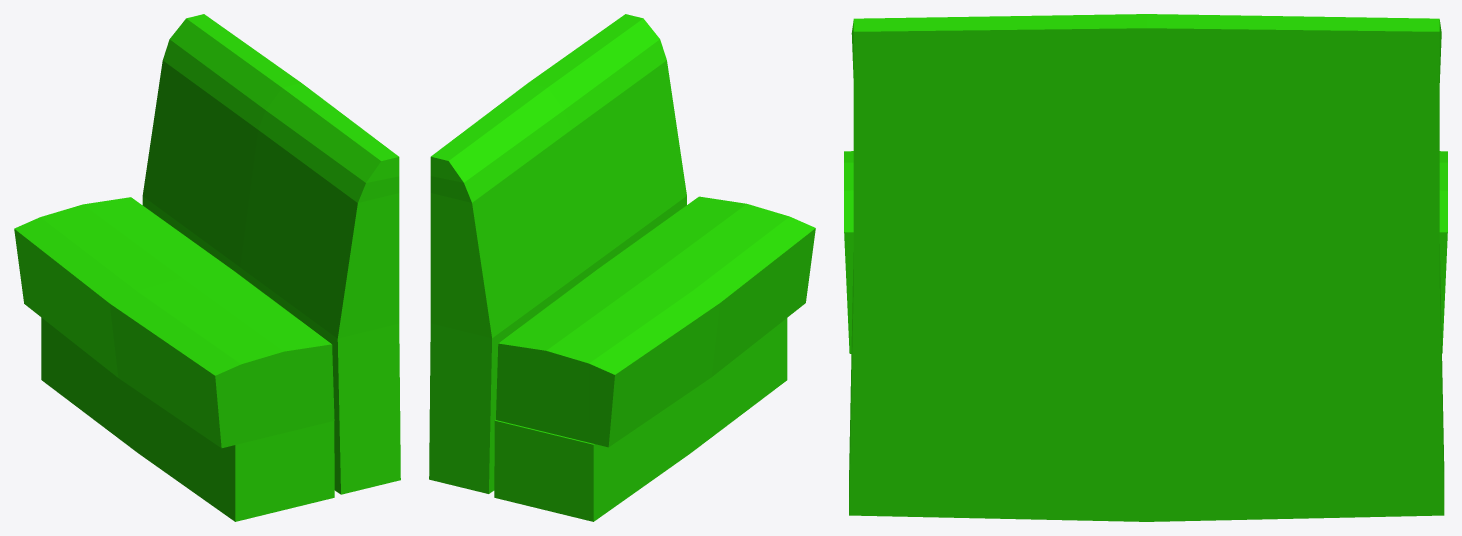
The model's file is Restaurant_Sofa_01_Lod01.fbx.
3 renders of one model, left to right at view 1: azimuth 30°, elevation 25°; view 2: azimuth 150°, elevation 25°; view 3: azimuth 270°, elevation 25°, orthographic. The views are drawn at different scales.
Visible parts, largest first — view 1: Restaurant_Sofa_01_Lod01; view 2: Restaurant_Sofa_01_Lod01; view 3: Restaurant_Sofa_01_Lod01.
Boxes of the visible parts, box(x1,y1,x2,y2) form: Restaurant_Sofa_01_Lod01: box(14, 14, 400, 521); Restaurant_Sofa_01_Lod01: box(429, 14, 815, 521); Restaurant_Sofa_01_Lod01: box(844, 14, 1447, 521).
Bounding box in the file's own units: 54.09 × 88.99 × 98.
